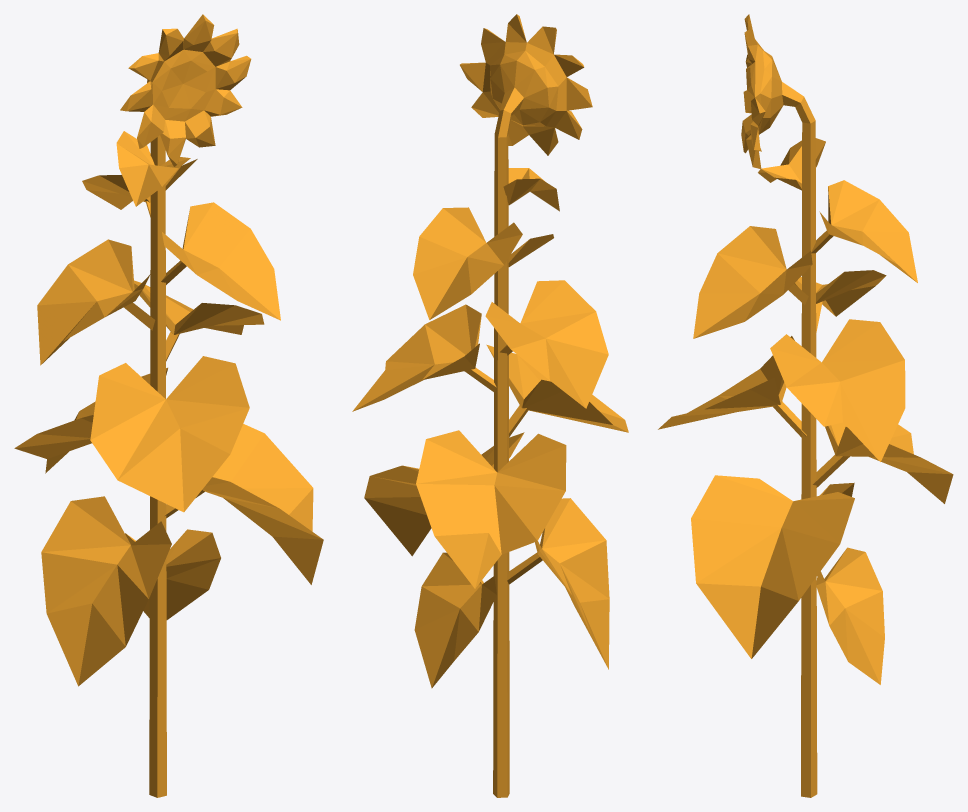
Rendered from SM_Sunflower_Plant_Mature_B.fbx.
3 renders of one model, left to right at view 1: azimuth 30°, elevation 25°; view 2: azimuth 150°, elevation 25°; view 3: azimuth 270°, elevation 25°, orthographic. The views are drawn at different scales.
Visible parts, largest first — view 1: sunflower-plant-mature-b; view 2: sunflower-plant-mature-b; view 3: sunflower-plant-mature-b.
Boxes of the visible parts, bbox=[...] form: sunflower-plant-mature-b: bbox=[14, 14, 323, 797]; sunflower-plant-mature-b: bbox=[352, 14, 628, 797]; sunflower-plant-mature-b: bbox=[658, 14, 953, 797].
Size of the model in its own units: 0.7802 by 2.34 by 0.8122.
